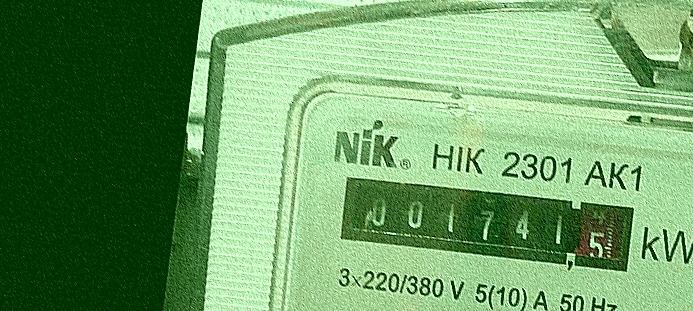0: (402, 196, 425, 232), (366, 194, 389, 229)
1: (438, 199, 459, 236), (547, 212, 567, 248)
4: (510, 206, 534, 243), (588, 207, 606, 227)
5: (583, 227, 606, 260)
7: (473, 206, 495, 243)
screen: (331, 164, 642, 283)
